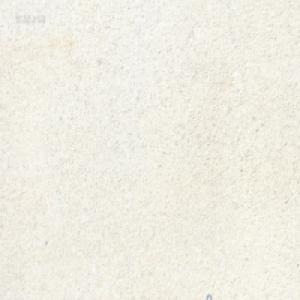Washer: (205, 292, 211, 300)
